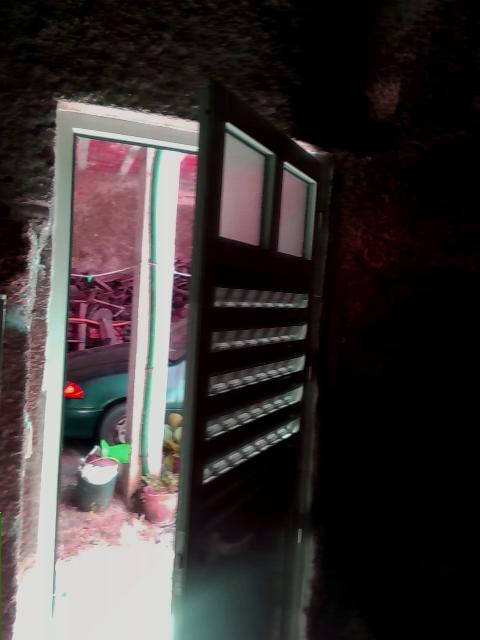semi_door: (37, 71, 333, 639)
